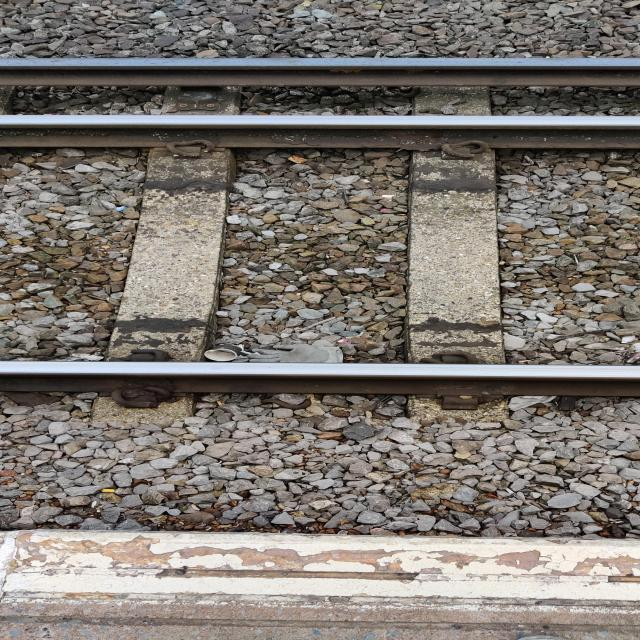litter: (199, 337, 350, 363)
